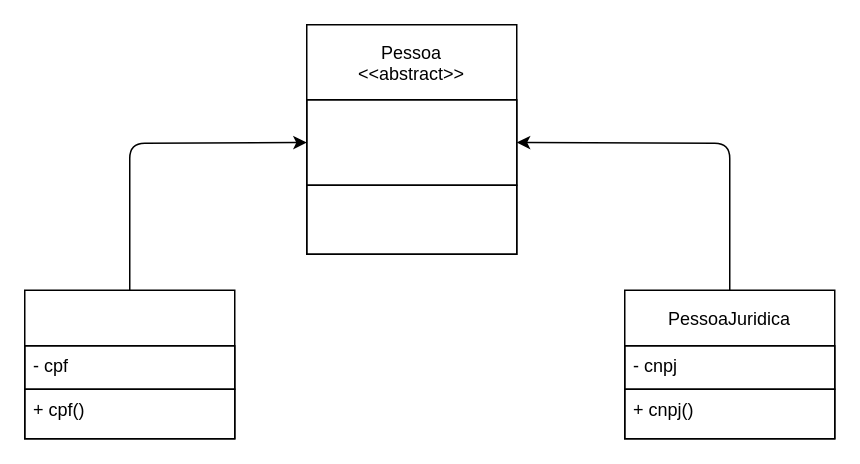
Image size: 860x464. Some labels were removed from this diagram. Here are the shapes that lost their labels. From the top down, the box of each, then its label:
(305, 98, 517, 185): - primeiroNome - segundoNome - endereco
(305, 184, 517, 254): + obterNome() + obterEndereco()
(23, 289, 235, 439): PessoaFisica
